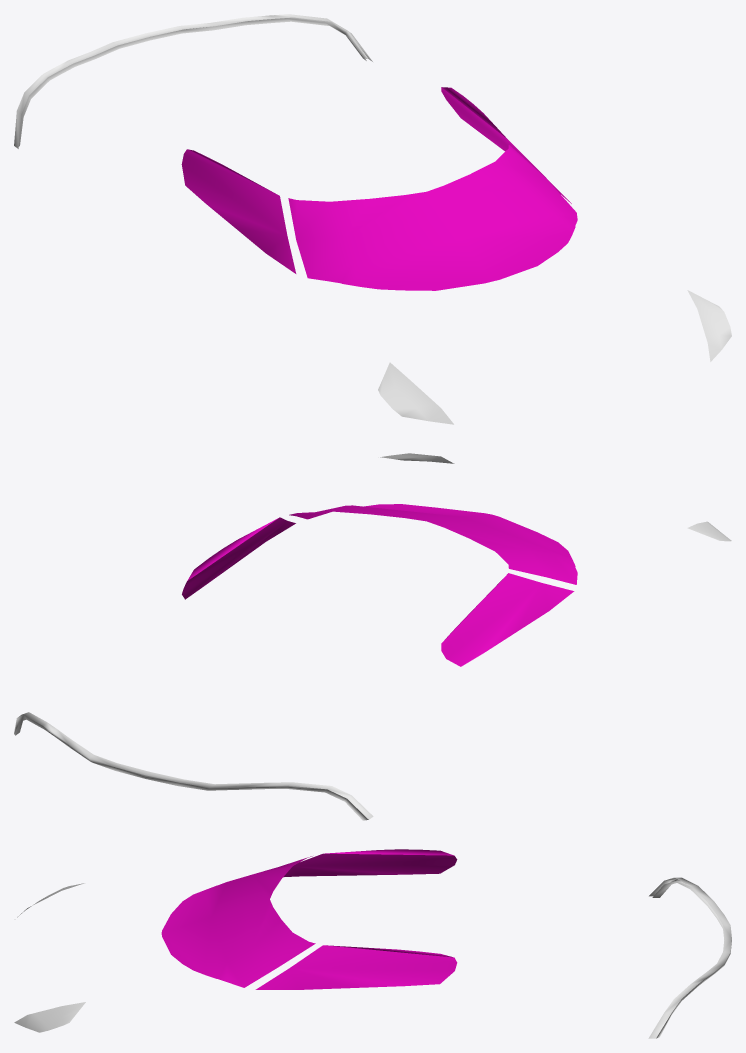
Rendered from Car.001.fbx.
3 renders of one model, top to bottom at view 1: azimuth 30°, elevation 25°; view 2: azimuth 150°, elevation 25°; view 3: azimuth 270°, elevation 25°, orthographic. The views are drawn at different scales.
Parts seen in each view (by area): view 1: Car.001; view 2: Car.001; view 3: Car.001.
Part boxes in pixels (x1,y1,x2,y2): Car.001: (14, 14, 731, 424); Car.001: (14, 453, 731, 820); Car.001: (14, 849, 731, 1038).
Bounding box in the file's own units: 128 × 30.33 × 274.
